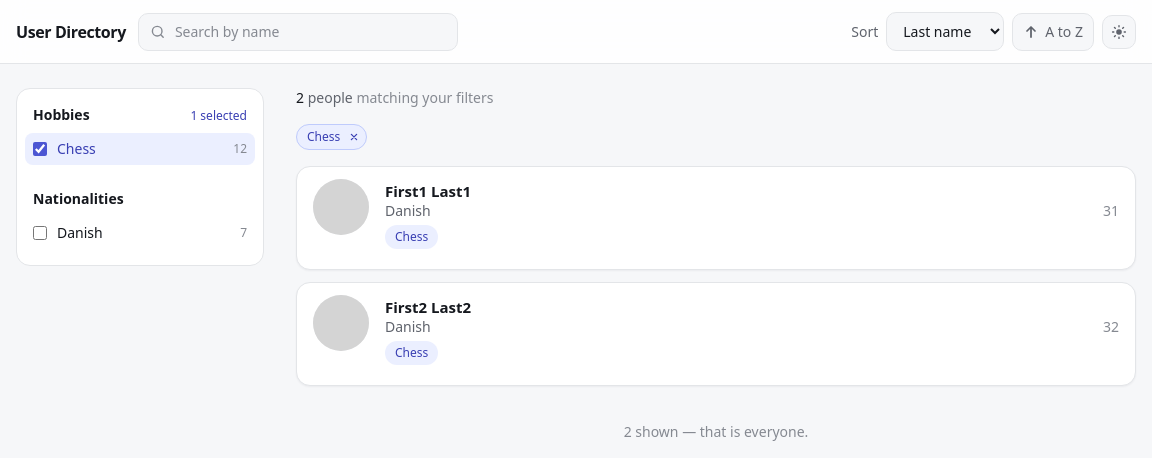
Scenario: App › filtering from the sidebar › does not let a pending search write undo the clear
The width and height of the screenshot is (1152, 458).
Expected: the heading "First1 Last1" is shown, [385,181,471,201]
Type "zzz" into the search field named "Search by first or last name". click: (298, 32)
box: [138,12,458,50]
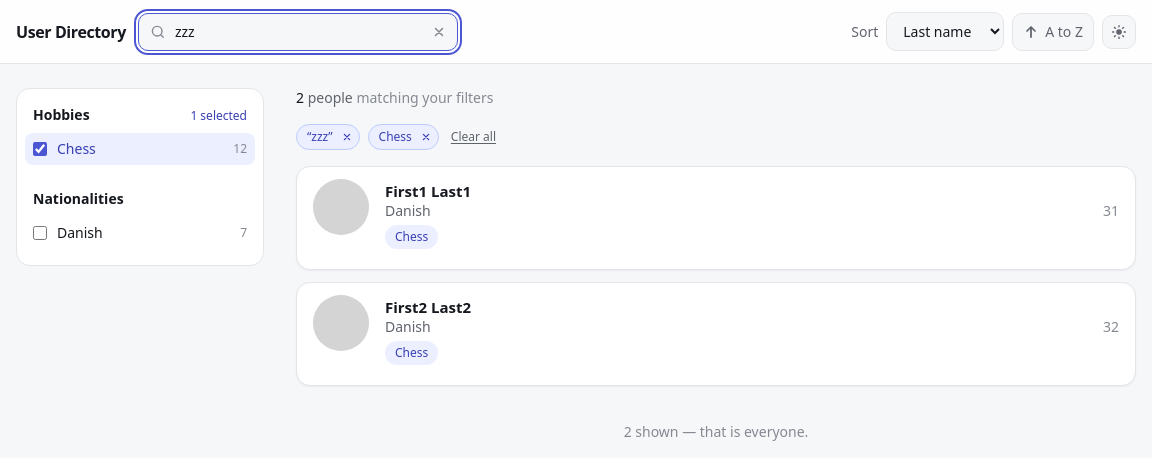
Click the button "Clear all". click: (473, 137)
box: [451,129,496,145]
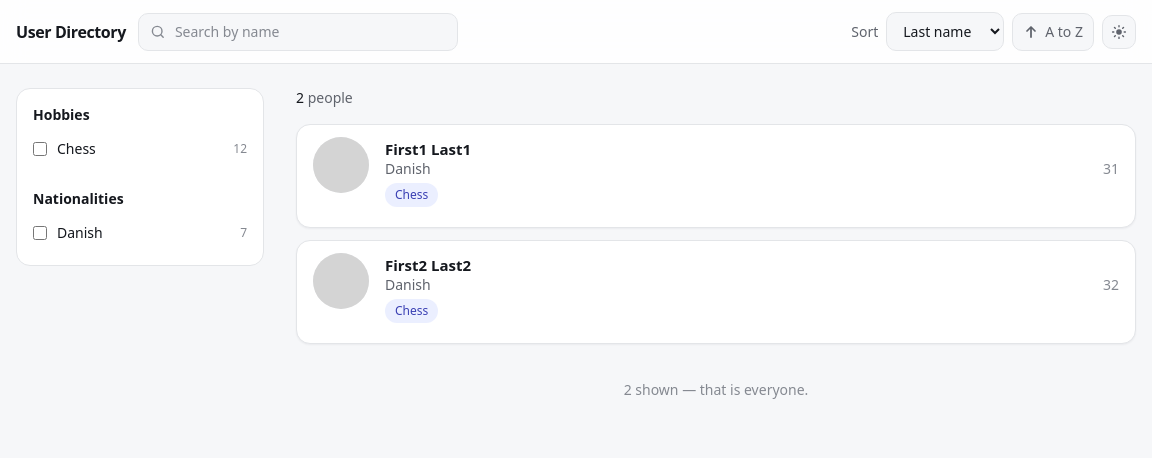
Result: the search field named "Search by first or last name" is empty at [138,12,458,50]
